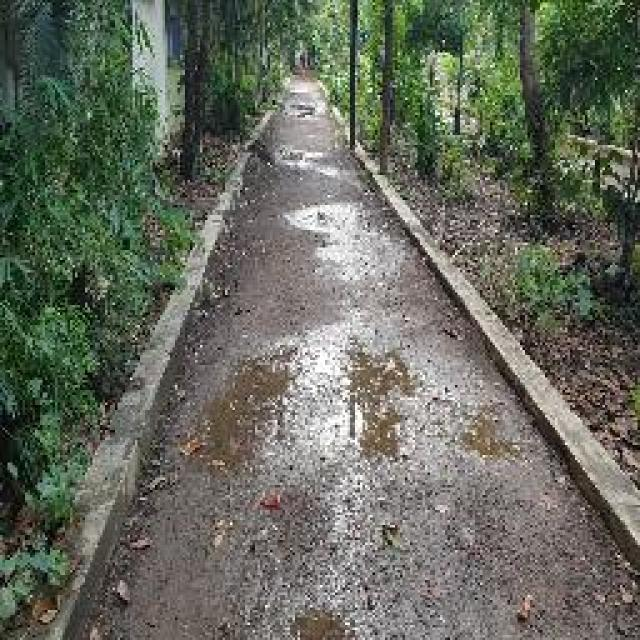puddle: (200, 330, 418, 482)
